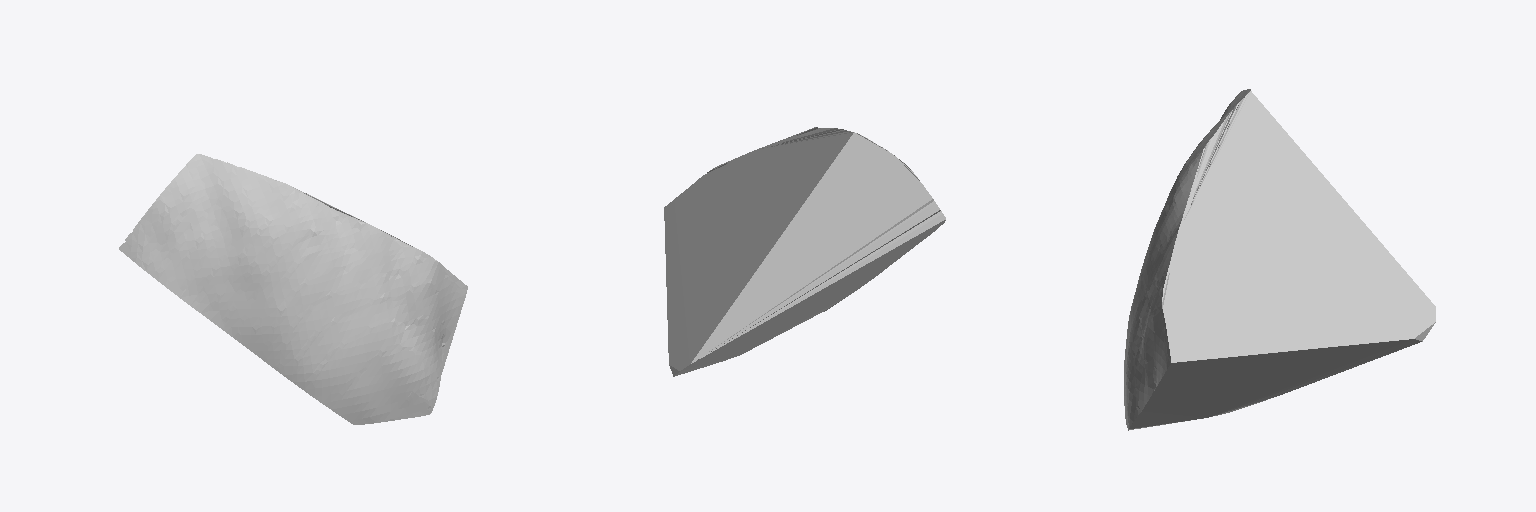
File: low_cell_015.obj
The picture shows the model from 3 angles: view 1: azimuth 30°, elevation 25°; view 2: azimuth 150°, elevation 25°; view 3: azimuth 270°, elevation 25°; orthographic projection.
Parts seen in each view (by area): view 1: low_cell.015_low_cell.014; view 2: low_cell.015_low_cell.014; view 3: low_cell.015_low_cell.014.
Part boxes in pixels (bbox=[...]): low_cell.015_low_cell.014: bbox=[119, 154, 467, 424]; low_cell.015_low_cell.014: bbox=[664, 127, 945, 376]; low_cell.015_low_cell.014: bbox=[1124, 89, 1435, 430].
Size of the model in its own units: 0.8599 by 0.6786 by 0.7366.